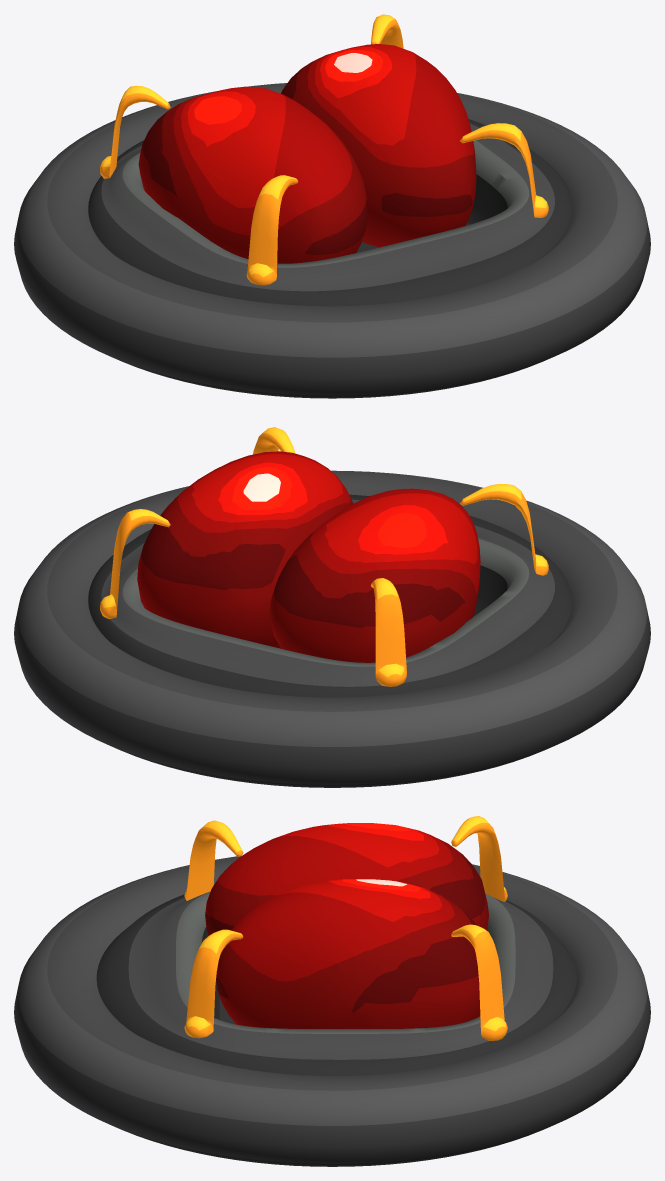
The model's file is berry_ring.glb.
3 renders of one model, top to bottom at view 1: azimuth 30°, elevation 25°; view 2: azimuth 150°, elevation 25°; view 3: azimuth 270°, elevation 25°, orthographic.
Parts seen in each view (by area): view 1: berry_ring; view 2: berry_ring; view 3: berry_ring.
Boxes of the visible parts, bbox=[...] form: berry_ring: bbox=[14, 14, 650, 398]; berry_ring: bbox=[14, 427, 650, 787]; berry_ring: bbox=[14, 816, 650, 1166].
Bounding box in the file's own units: 24 × 7.8 × 24.
